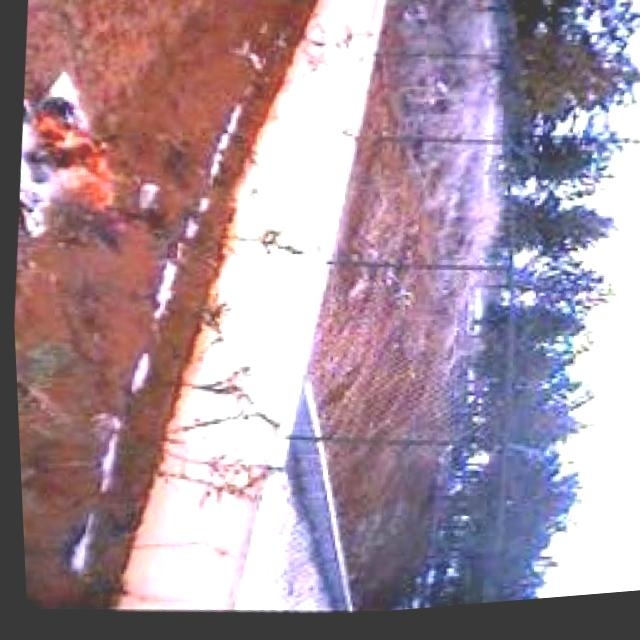helmet: (10, 95, 135, 242)
